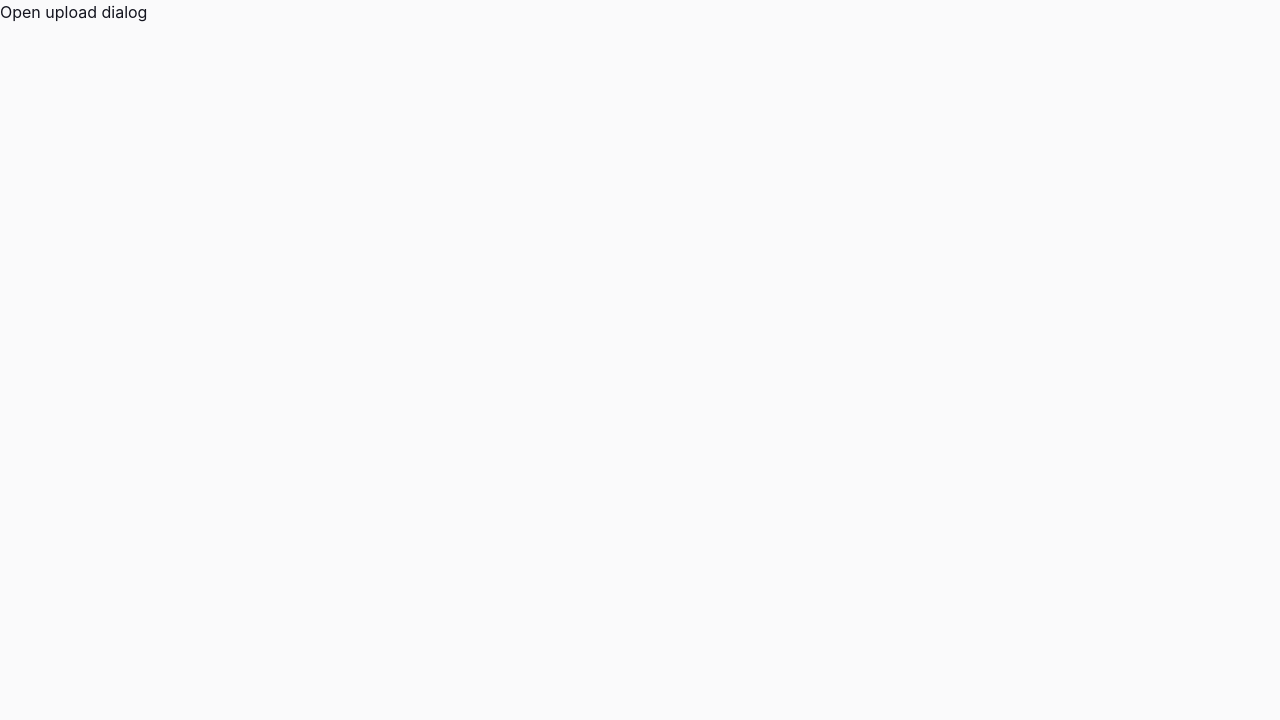
it: UploadToApplicationDialog › advertises only file types accepted by the parse-application vision validator
Click the button "Open upload dialog" at (74, 12), box [0,0,147,24]
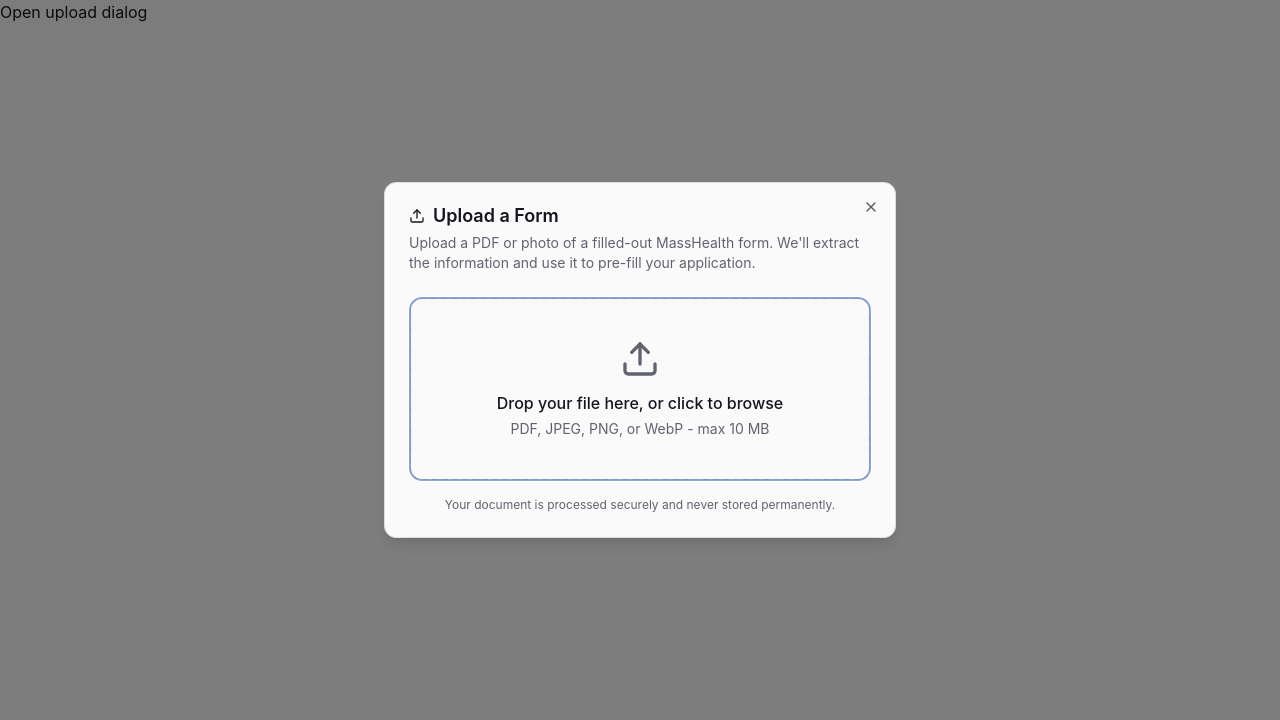
expect the text "PDF, JPEG, PNG, or WebP - max 10 MB" is shown: met, box [510,420,770,437]
